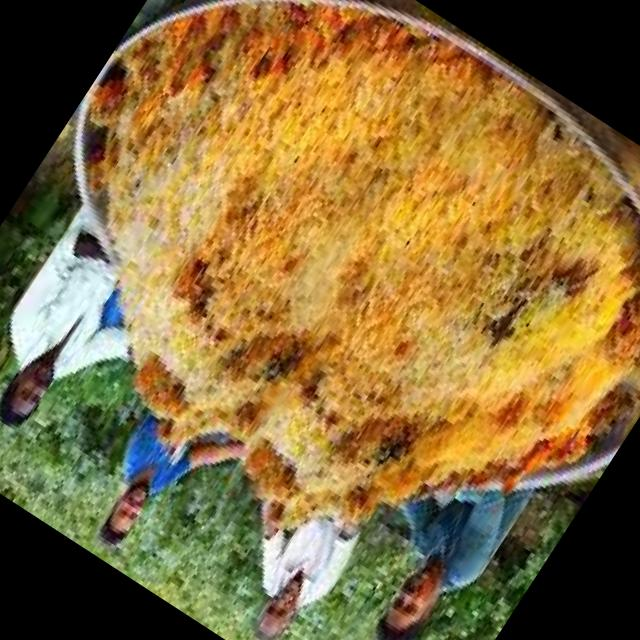Biryani: (5, 0, 640, 565)
